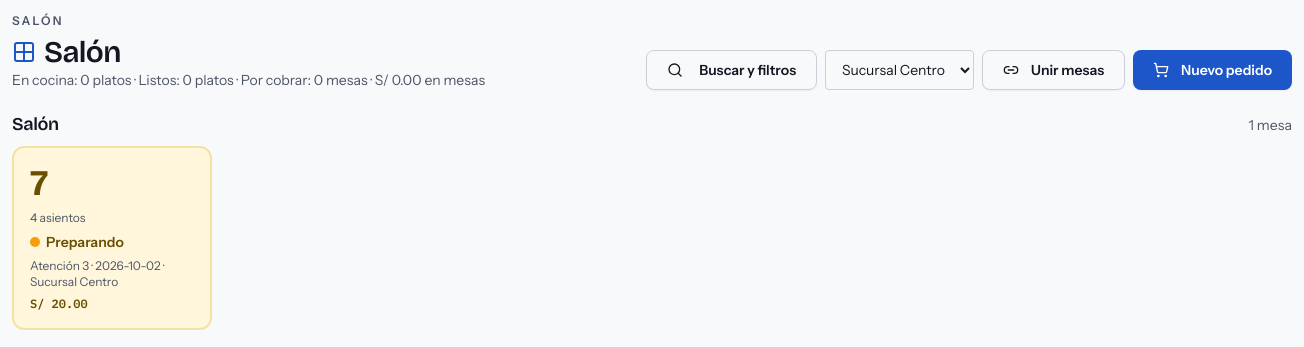
Scenario: Mesas attention history display › shows the order-attention pair and branch name in the read-only table sheet
What coordinates should you click on to do the following:
click the element with test id "mesa-card-7"
I would click on:
 (112, 238)
Its box is 12,146 -> 212,330.
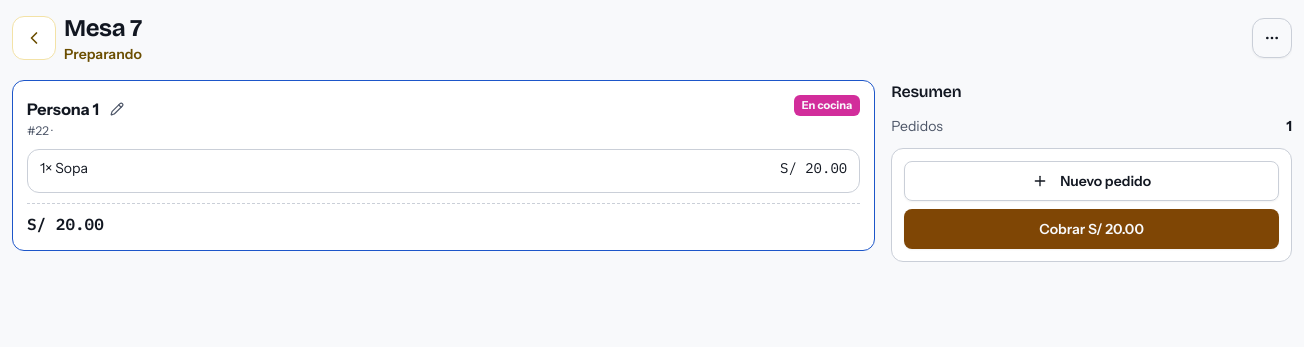
Expected: the text "Mesa 7" is shown, 64,14 -> 142,42
Expected: the text "#22 ·" is shown, 27,123 -> 52,138
